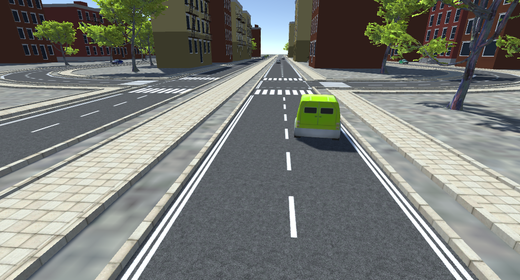centerstrip: (29, 91, 151, 136), (278, 94, 302, 243)
sidestripe: (117, 92, 252, 279), (338, 123, 475, 280)
